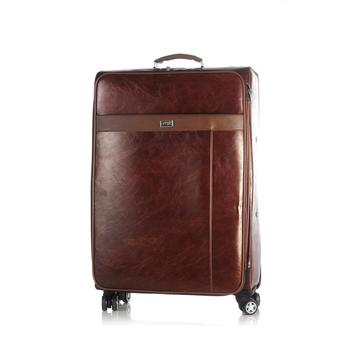luggage: (90, 54, 263, 315)
